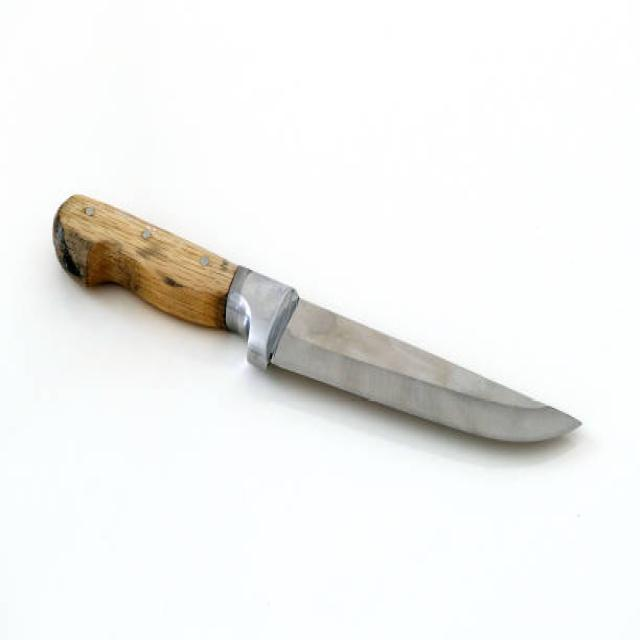knife: (46, 179, 591, 462)
